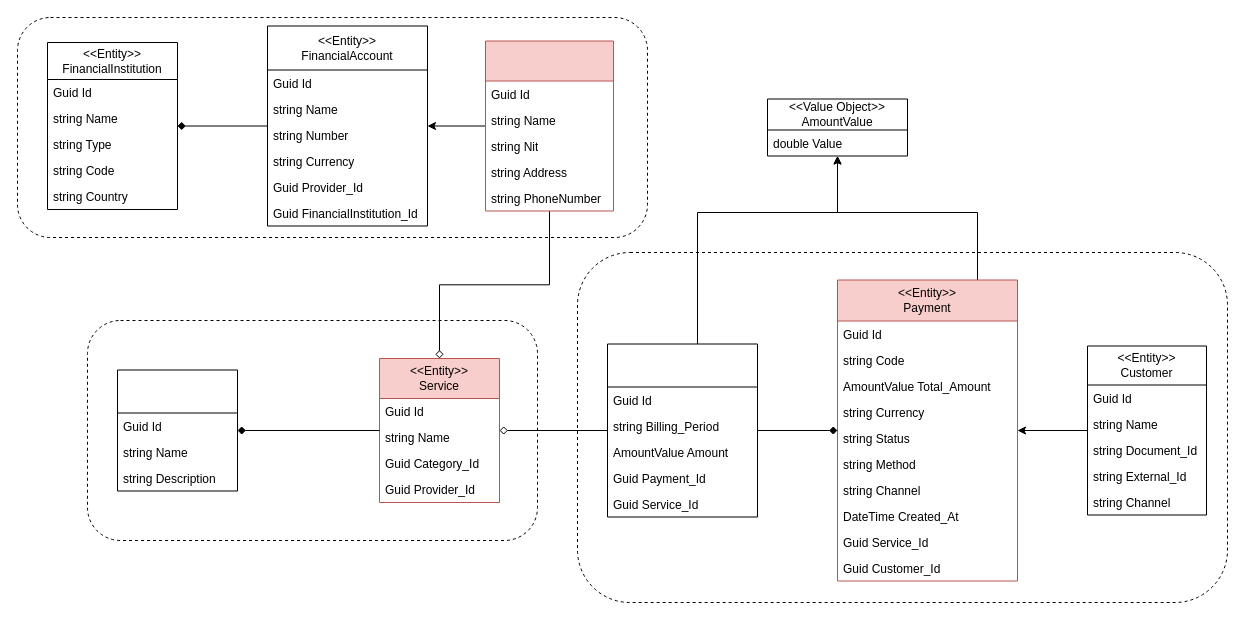
Image size: 1245x620. Some labels were removed from this diagram. Here are the shapes that lost their labels. From the top down, the box of each, then its label:
(484, 40, 614, 211): <<Entity>> Provider
(116, 369, 238, 491): <<Entity>> Category
(606, 343, 758, 517): <<Entity>> PaymentService
